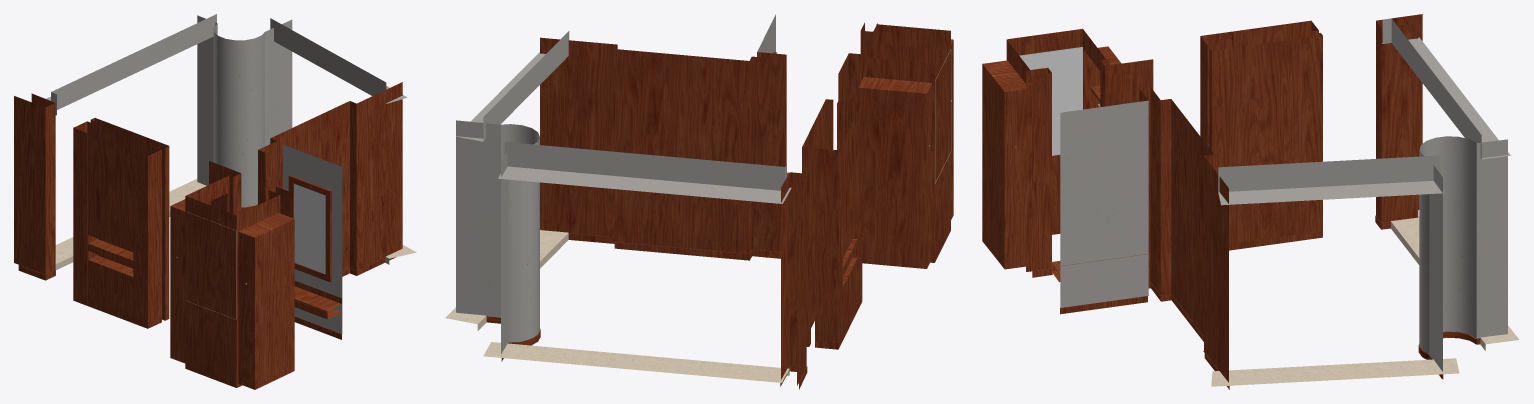
File: Bedroom2.fbx
3 renders of one model, left to right at view 1: azimuth 30°, elevation 25°; view 2: azimuth 150°, elevation 25°; view 3: azimuth 270°, elevation 25°, orthographic. The views are drawn at different scales.
Parts seen in each view (by area): view 1: Bedroom; view 2: Bedroom; view 3: Bedroom.
Boxes of the visible parts, left/top/right/bottom form: Bedroom: left=14, top=14, right=416, bottom=389; Bedroom: left=445, top=14, right=953, bottom=389; Bedroom: left=982, top=14, right=1518, bottom=389.
Bounding box in the file's own units: 5.57 × 3.08 × 7.1.
